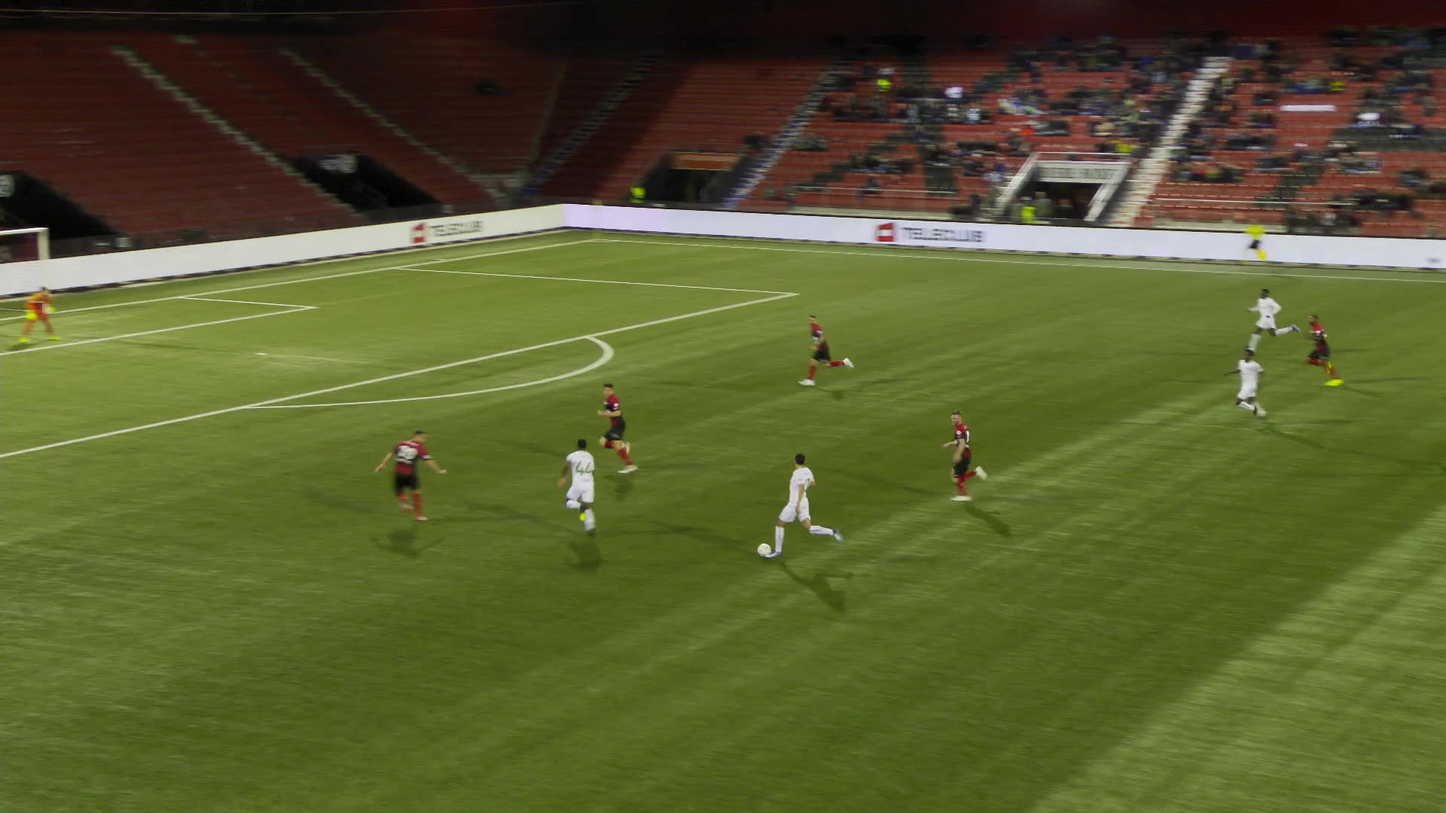ball: (757, 544, 770, 555)
player: (767, 452, 837, 558), (934, 408, 996, 500), (374, 429, 433, 519), (548, 441, 593, 536), (789, 312, 848, 382), (1232, 286, 1293, 351), (594, 383, 633, 472), (1217, 345, 1258, 423), (2, 285, 46, 343), (1295, 312, 1330, 383)
referee: (1228, 217, 1249, 262)
